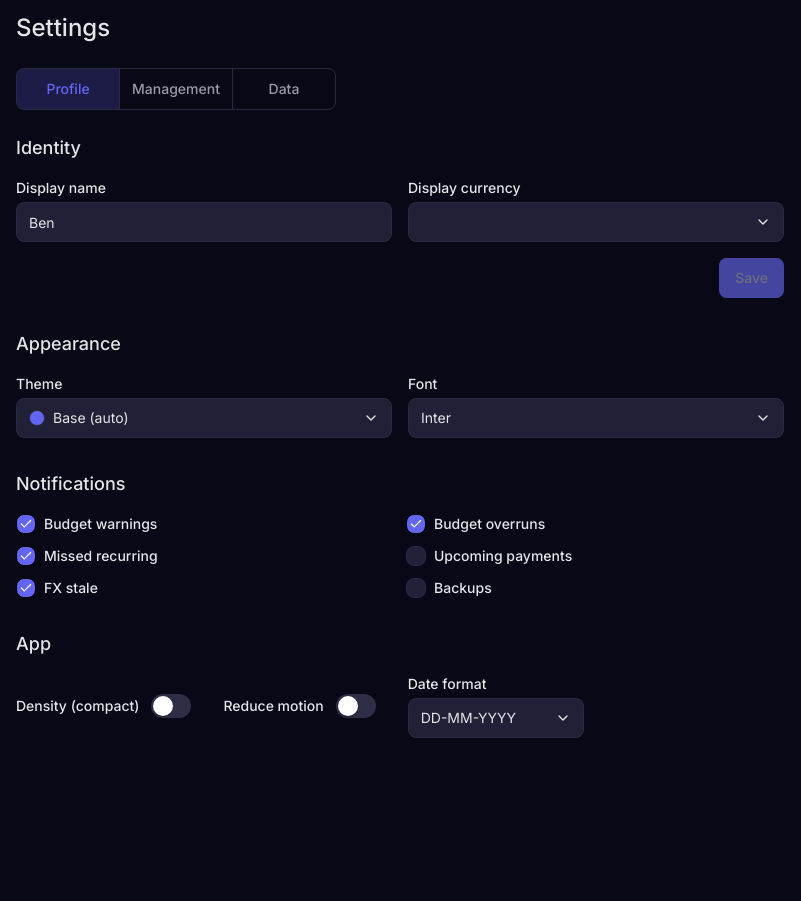
Test: Settings page › Management tab renders household config when selected
Click the button "Management": (176, 89) [120, 69, 232, 109]
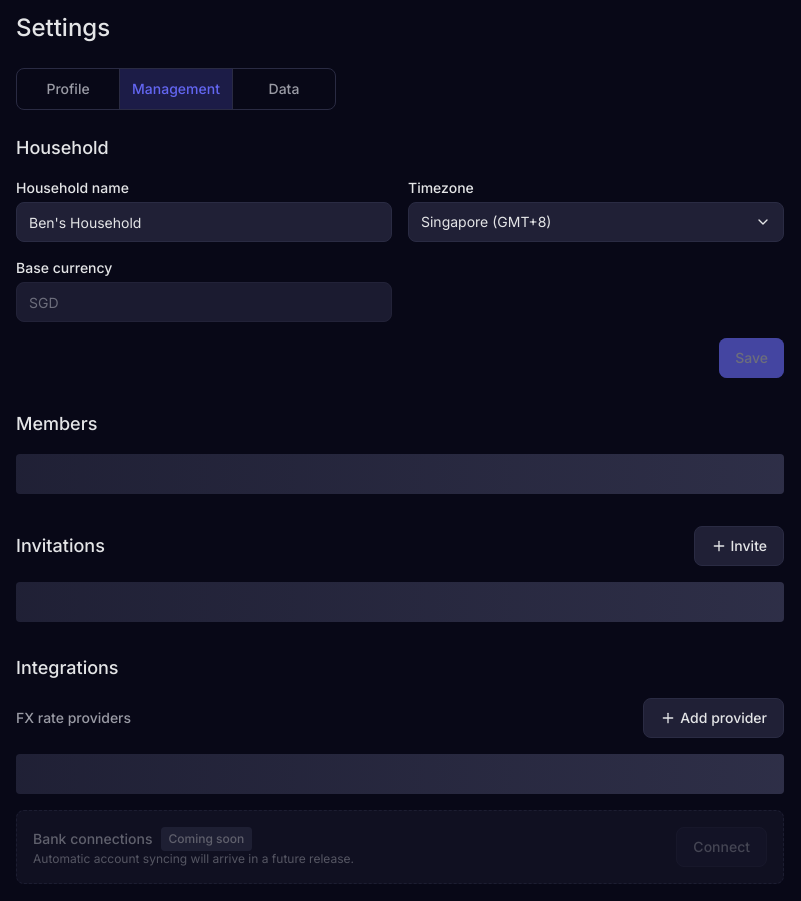
Now the heading "Household" is shown, box [16, 134, 109, 162]
Now the field labelled "Household name" is shown, box [16, 202, 392, 242]
